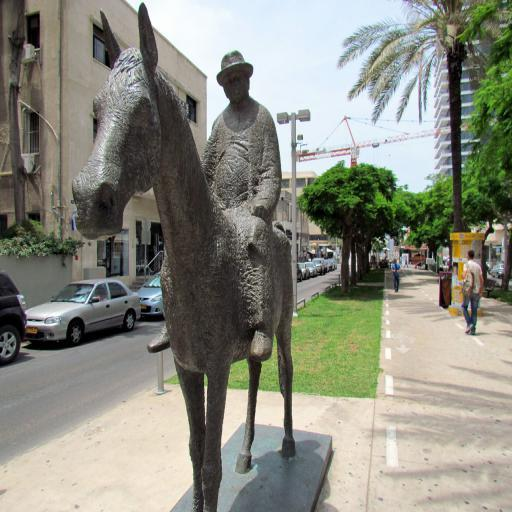Horse: (70, 4, 296, 511)
